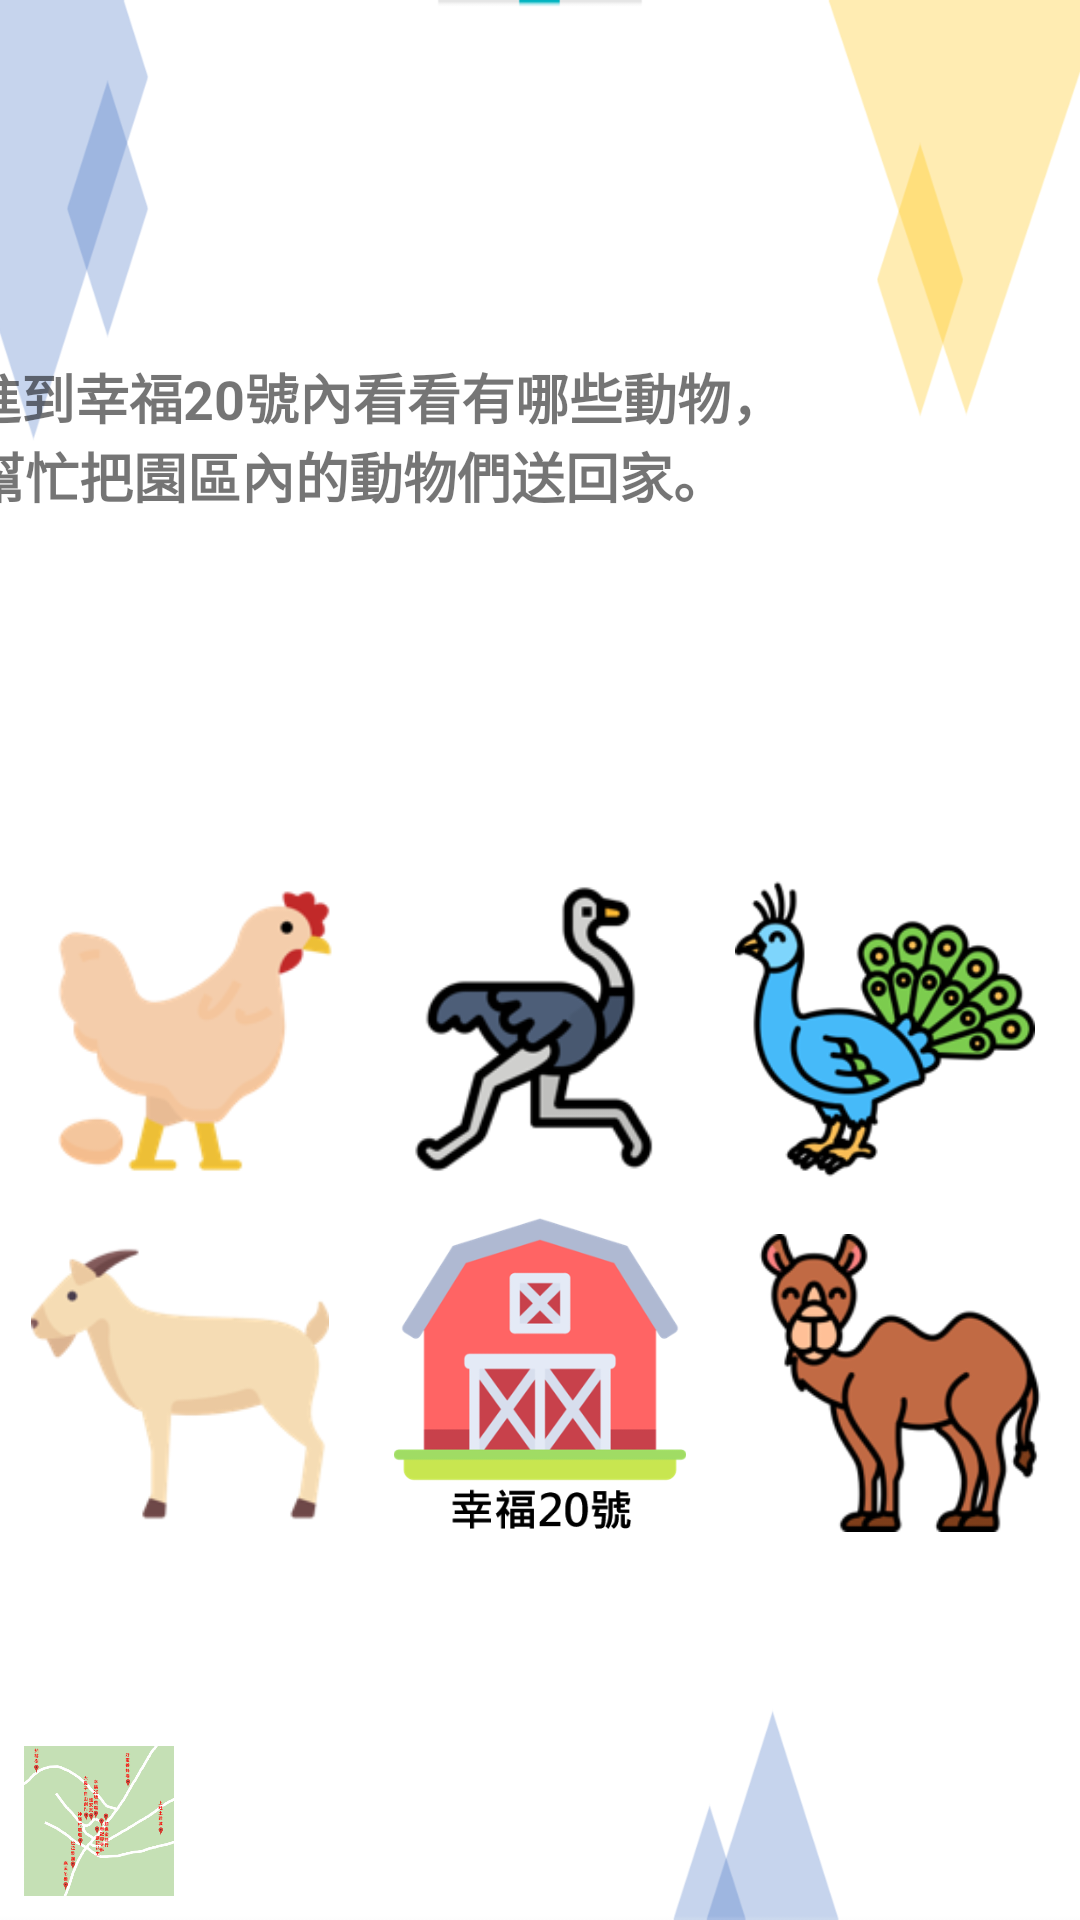

Where to tap for icons on this 1080px x 1920px app screen, as [x,y]:
animal: [885,1029], [534,1029], [195,1031], [900,1383], [180,1384]
barn: [540,1374]
map: [99,1821]
